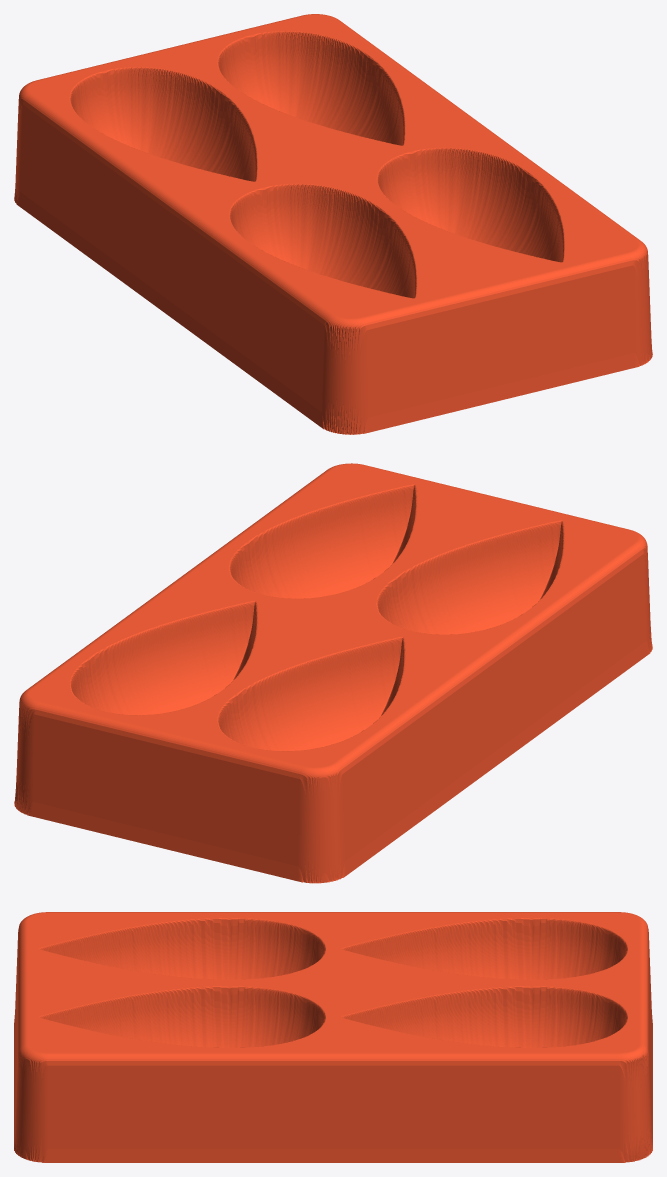
Rendered from mold.glb.
3 views of the same model, one above another, from view 1: azimuth 30°, elevation 25°; view 2: azimuth 150°, elevation 25°; view 3: azimuth 270°, elevation 25° (orthographic). The views are drawn at different scales.
Parts seen in each view (by area): view 1: geometry_0; view 2: geometry_0; view 3: geometry_0.
Part boxes in pixels (x1,y1,x2,y2): geometry_0: (14, 14, 652, 434); geometry_0: (14, 463, 652, 883); geometry_0: (14, 912, 652, 1162).
Size of the model in its own units: 0.0965 by 0.031 by 0.1721.
